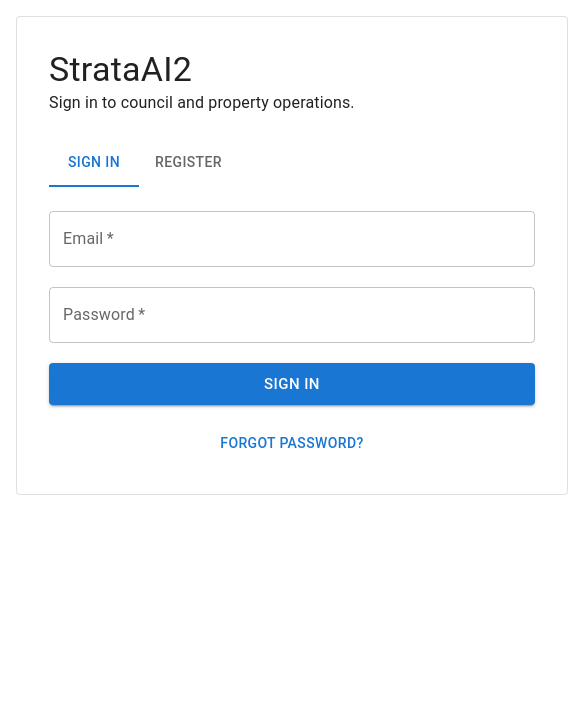
Test: PRD-02 authentication UI › retries an uncertain registration with the same key and clears details only after a valid acknowledgment
The image size is (585, 703).
Click the tab "Register".
click(188, 163)  # box [139,139,238,187]
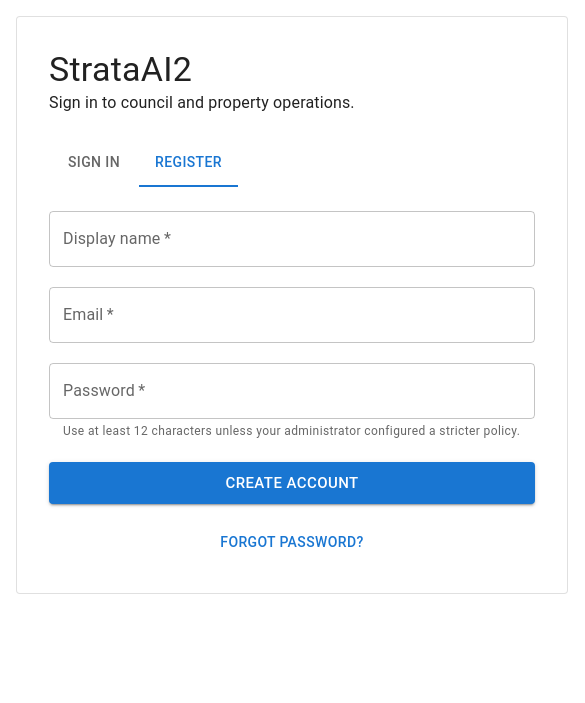
Type "Person" into the field labelled "Display name *".
click(292, 239); type("Person")  # box [49,211,535,267]
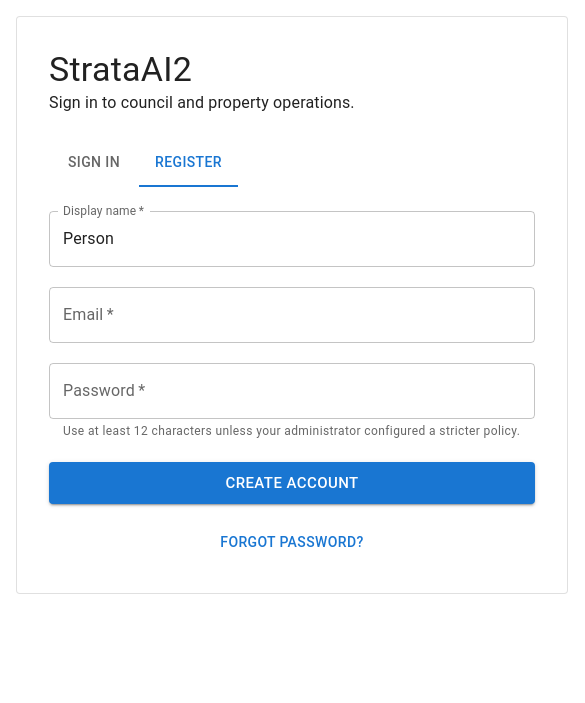
Type "person@example.test" into the field labelled "Email *".
click(292, 315); type("person@example.test")  # box [49,287,535,343]
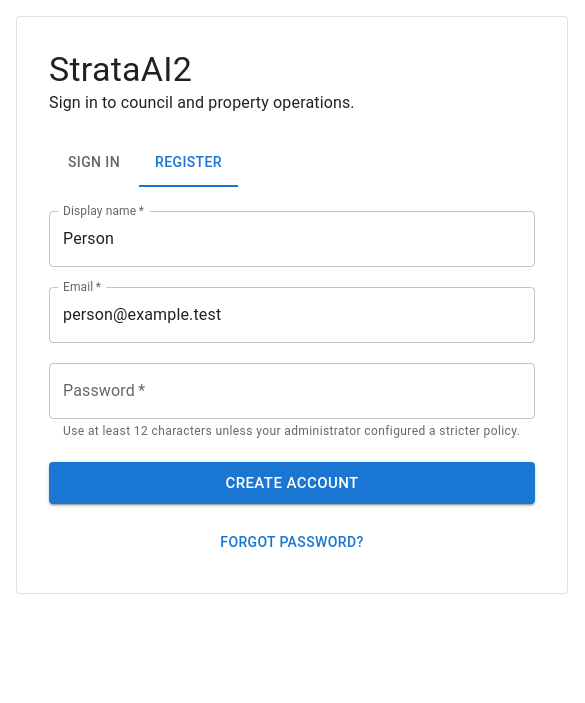
Type "correct-private-password" into the password field labelled "Password *".
click(292, 391); type("correct-private-password")  # box [49,363,535,419]
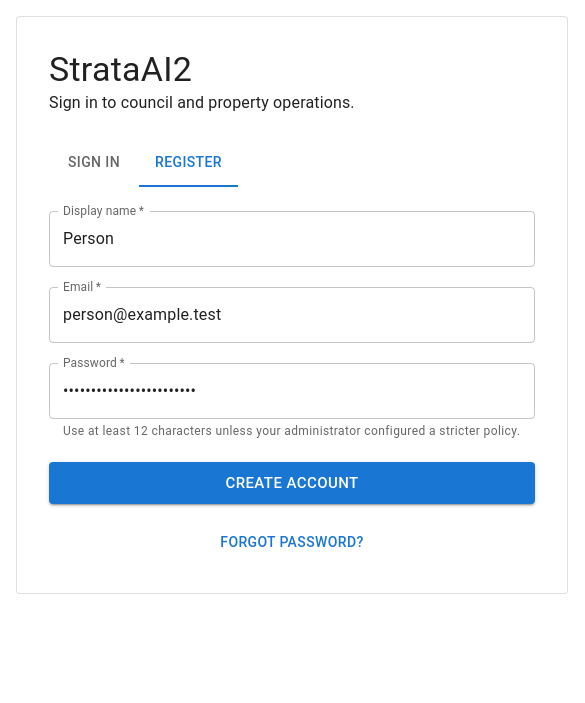
Click the button "Create account".
click(292, 483)  # box [49,462,535,504]
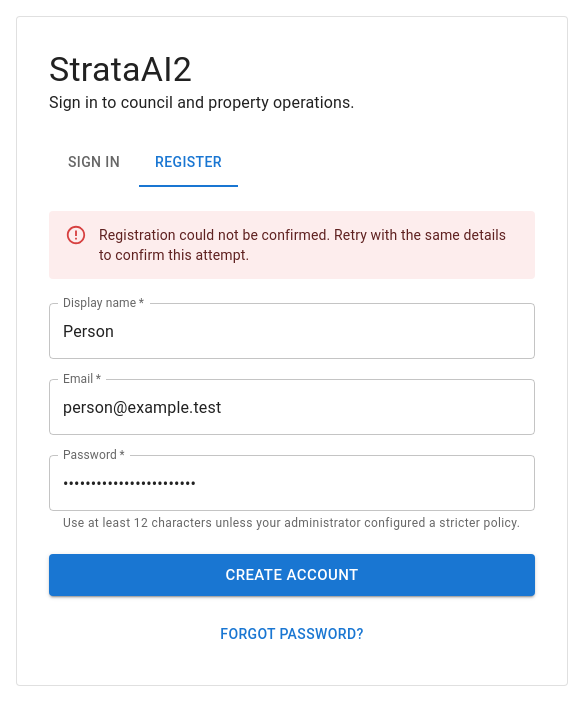
Expected: the text "Registration could not be confirmed" is shown, [99,227,506,263]
Click the button "Create account".
click(292, 575)  # box [49,554,535,596]
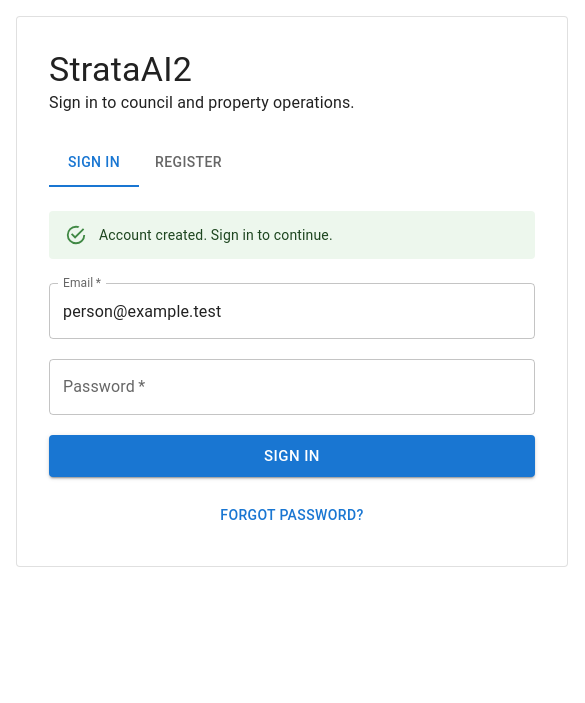
Expected: the text "Account created. Sign in to continue." is shown, [99,227,333,243]
Expected: the password field labelled "Password *" is empty, [49,359,535,415]
